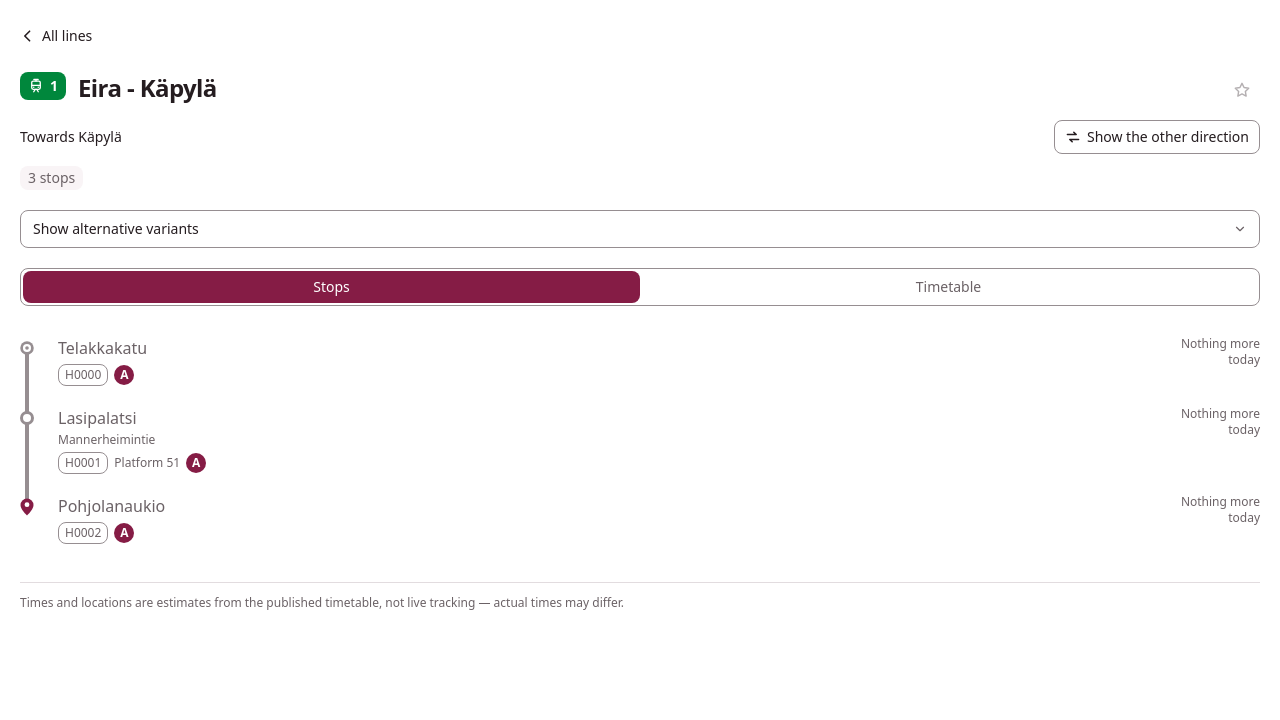
Test: RouteInspector › the timetable › distinguishes a date outside the feed from a day with no service
Expected: the heading "Eira - Käpylä" is shown, [78, 71, 217, 104]
What coordinates should you click on to do the following:
click the radio button labelled "Timetable"
I would click on:
 (948, 287)
Its box is [640, 271, 1257, 303].
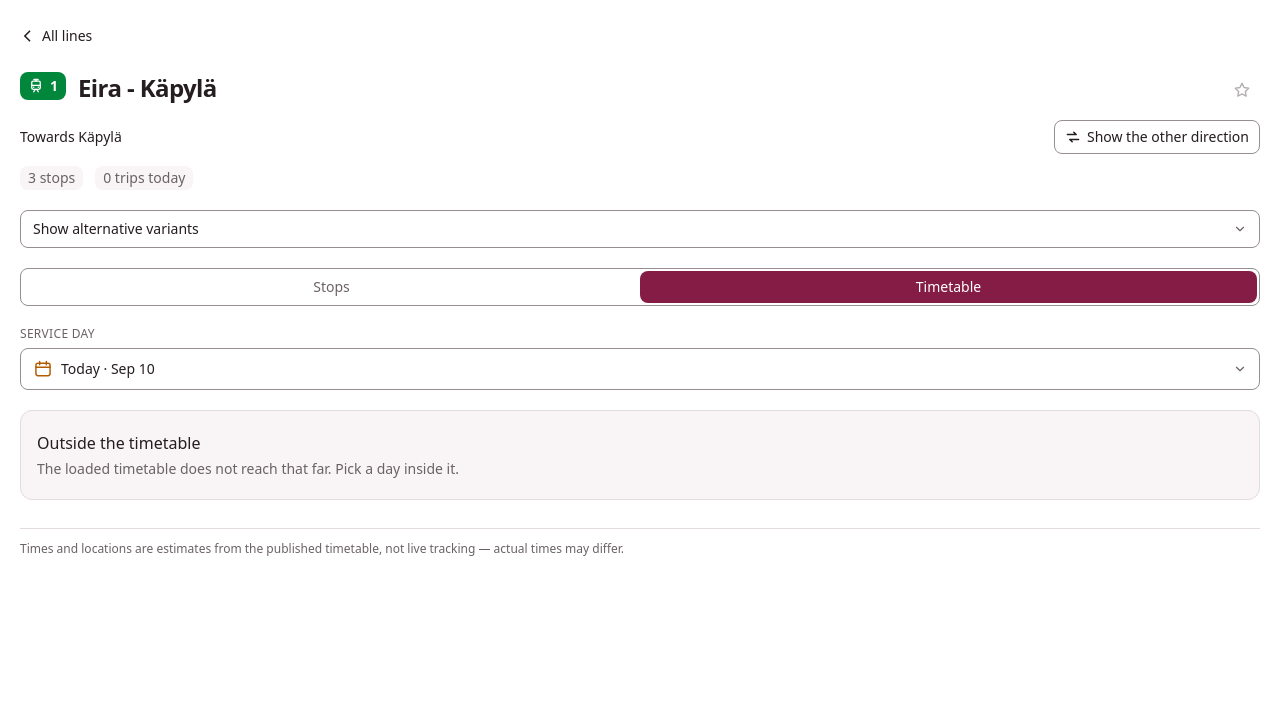
Now the text "Outside the timetable" is shown, box [37, 432, 200, 454]
